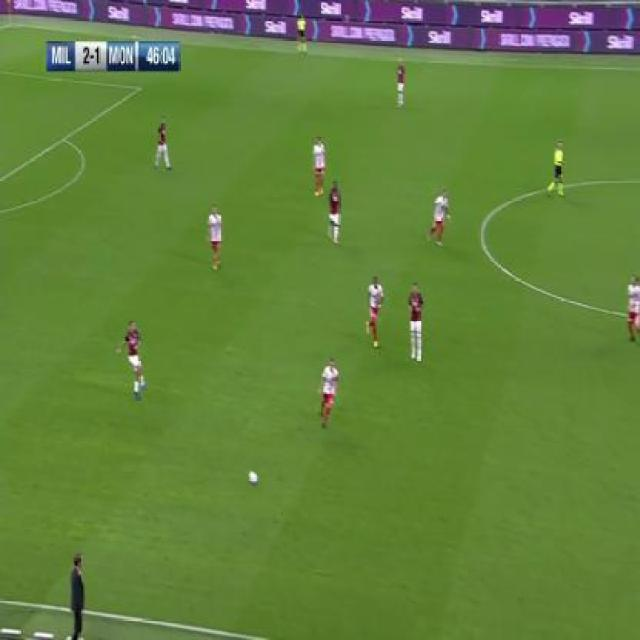ball: (247, 467, 260, 486)
player: (116, 315, 149, 397), (316, 356, 339, 430), (68, 552, 87, 640), (406, 279, 425, 364), (427, 188, 452, 248), (365, 274, 384, 350), (545, 138, 567, 201), (207, 202, 224, 273), (153, 113, 173, 172), (624, 272, 640, 345), (327, 178, 343, 249), (311, 134, 328, 199), (395, 57, 408, 110), (295, 9, 308, 57)
